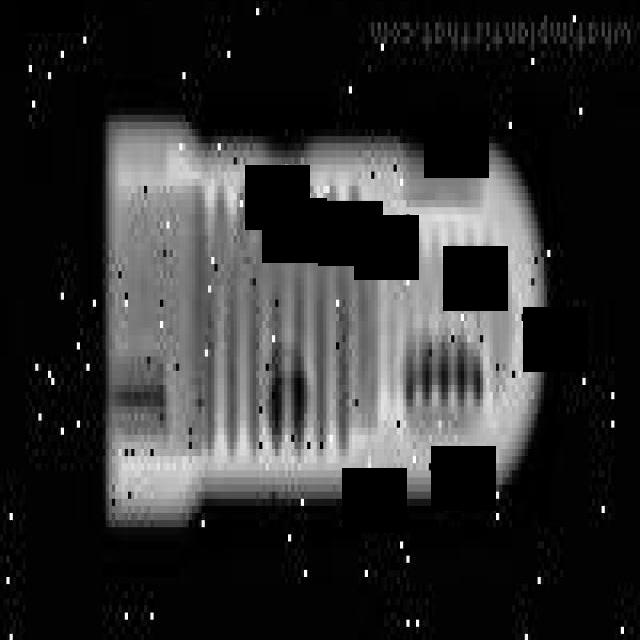Root canal obturation: (105, 114, 552, 536)
